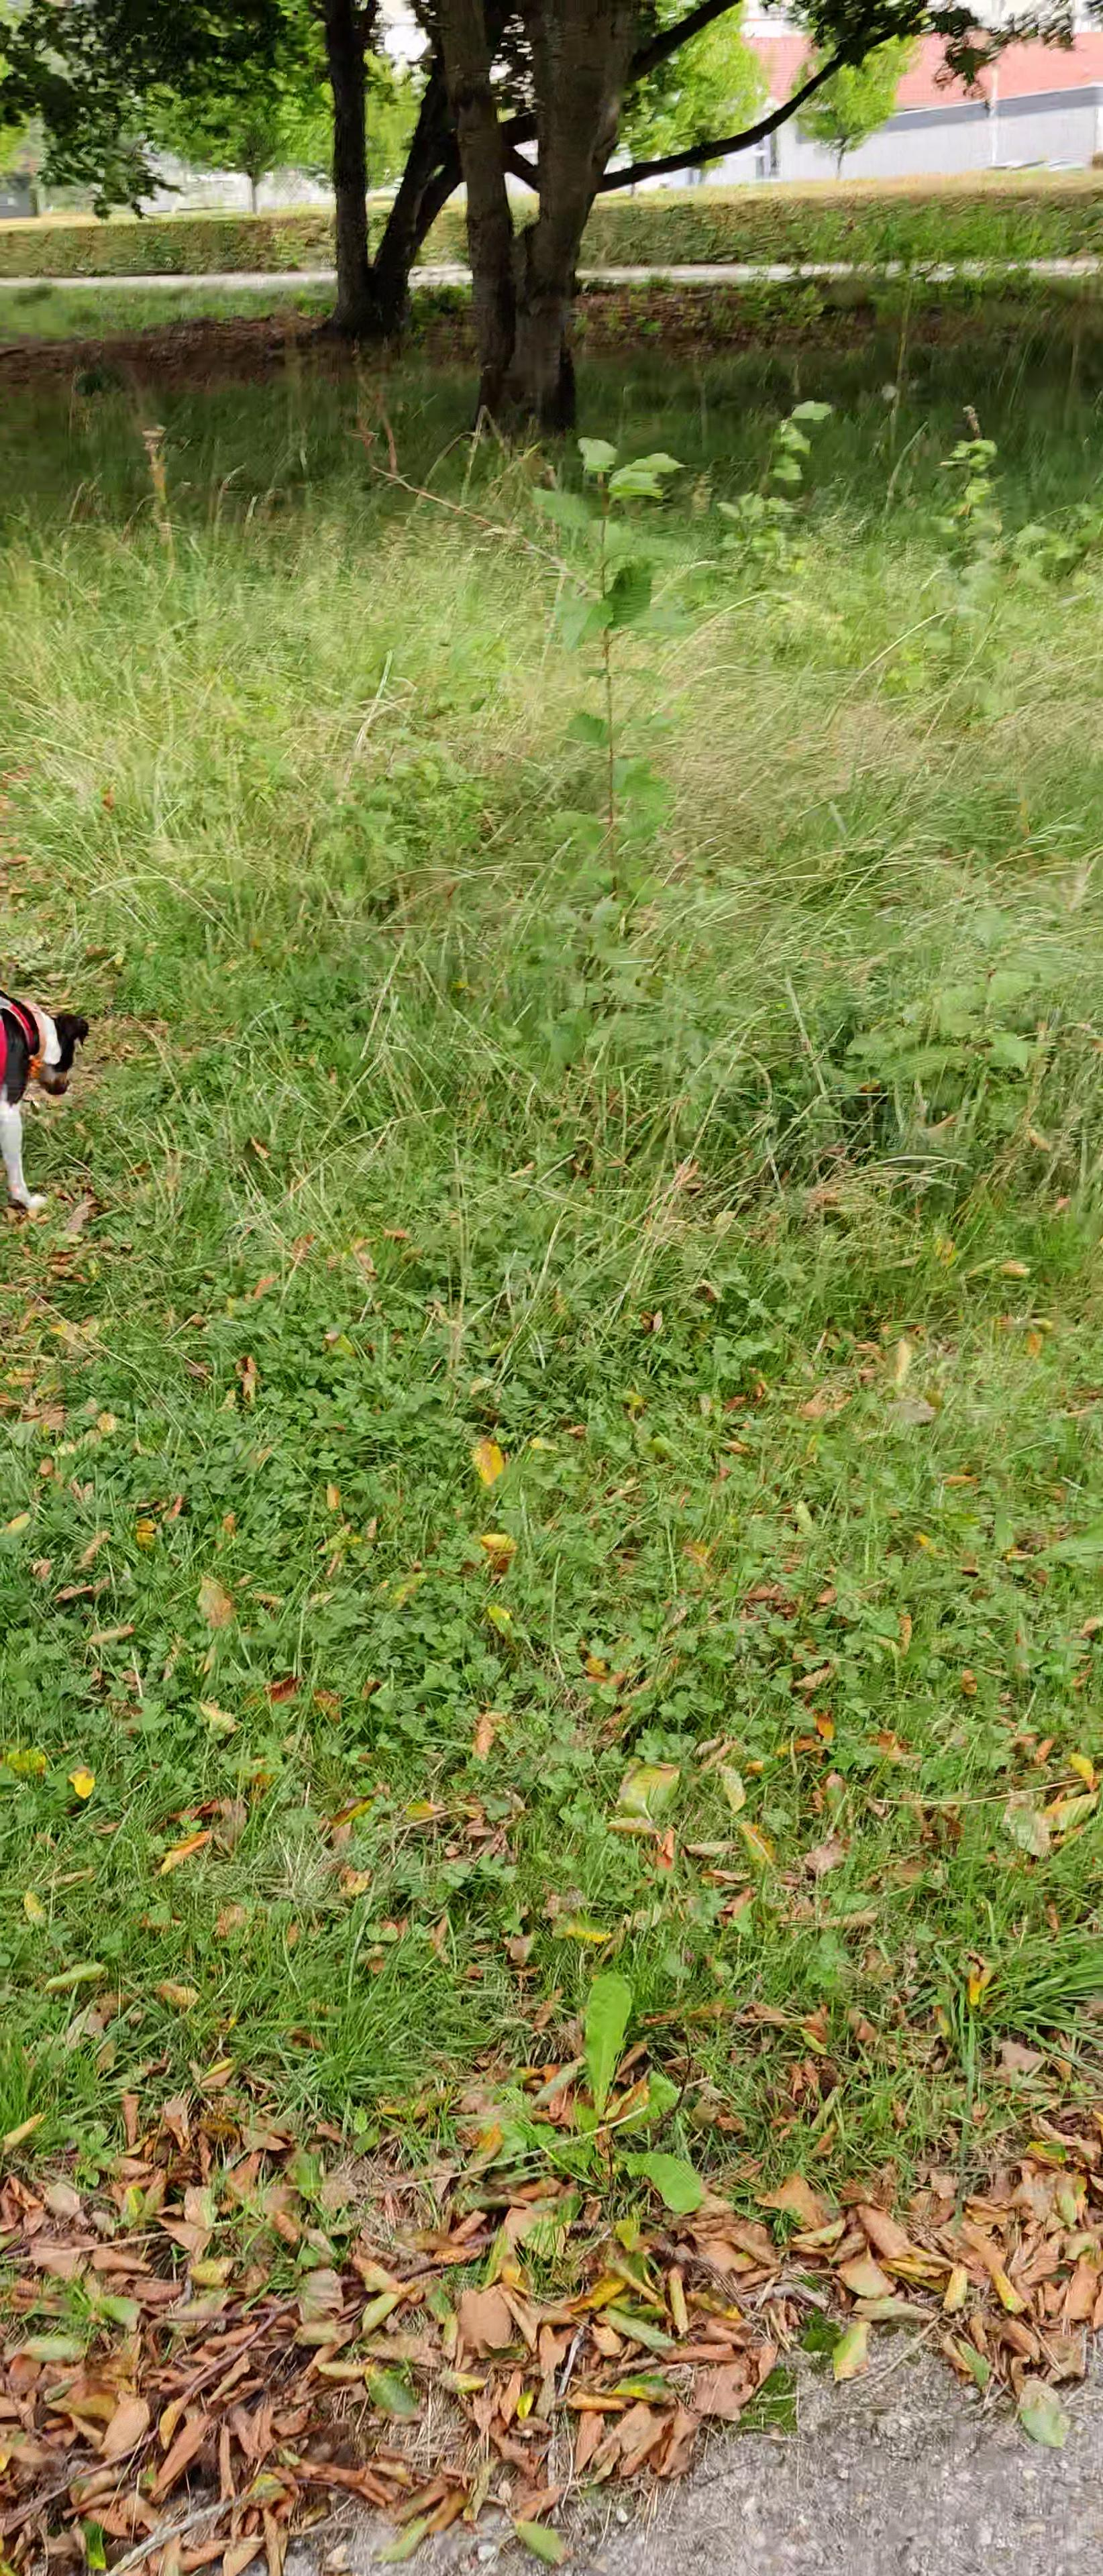Dog: (0, 979, 95, 1214)
